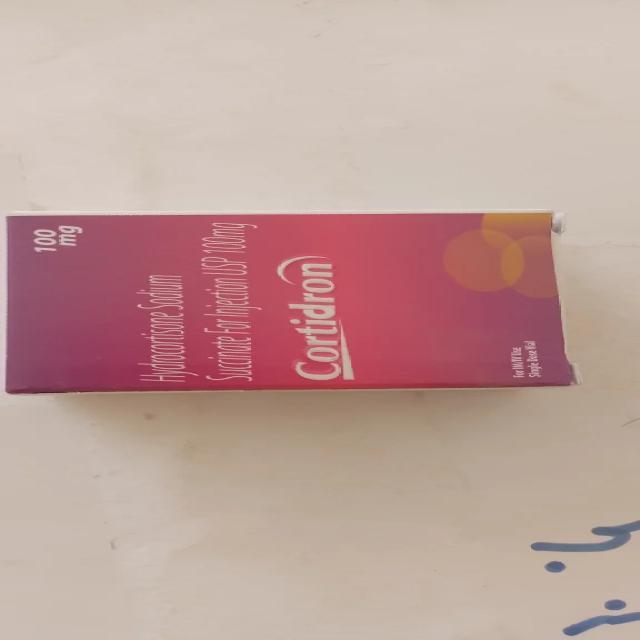drug-name: (270, 248, 354, 382)
